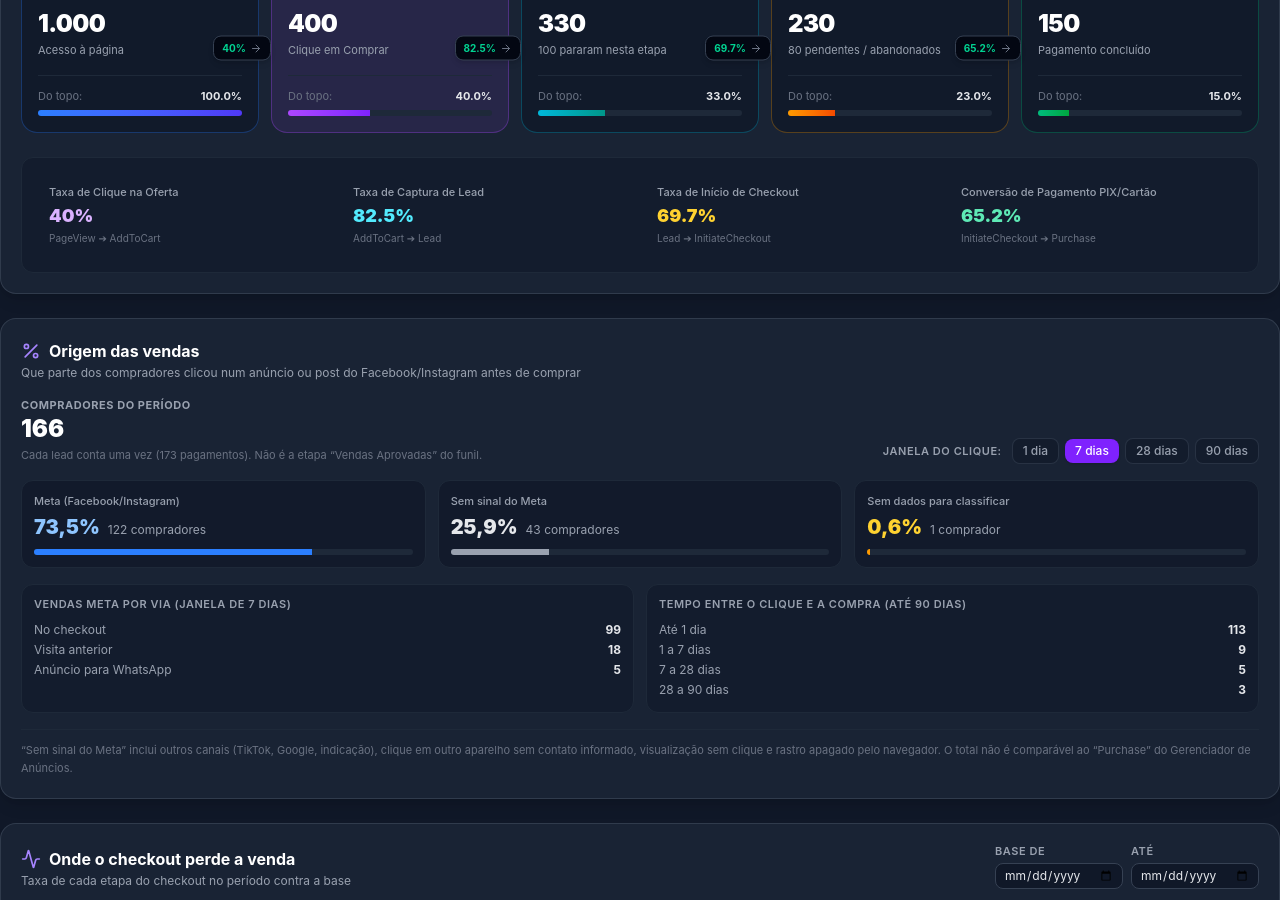
Scenario: LeadsDashboard — Origem das vendas (T3) › troca a janela e recalcula sobre o mesmo total
(page scrolled)
Expected: the text "Compradores do período" is shown, [21, 398, 191, 412]
Expected: the text "18" is shown, [608, 642, 621, 658]
Click the button "28 dias" at [1157, 451], box [1125, 438, 1189, 464]
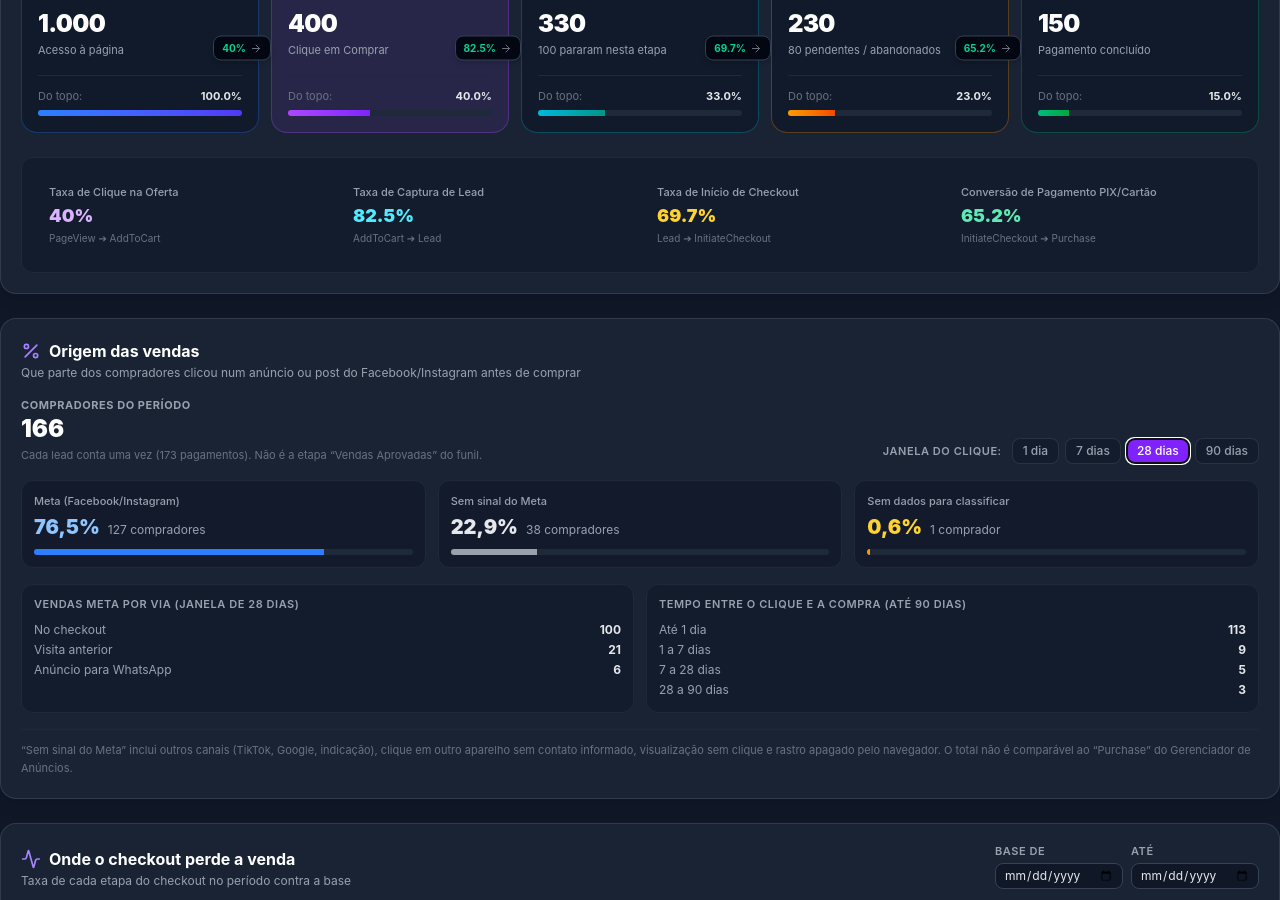
Expected: the text "166" is shown, [21, 414, 64, 444]
Now the text "21" is shown, box [608, 642, 621, 658]
